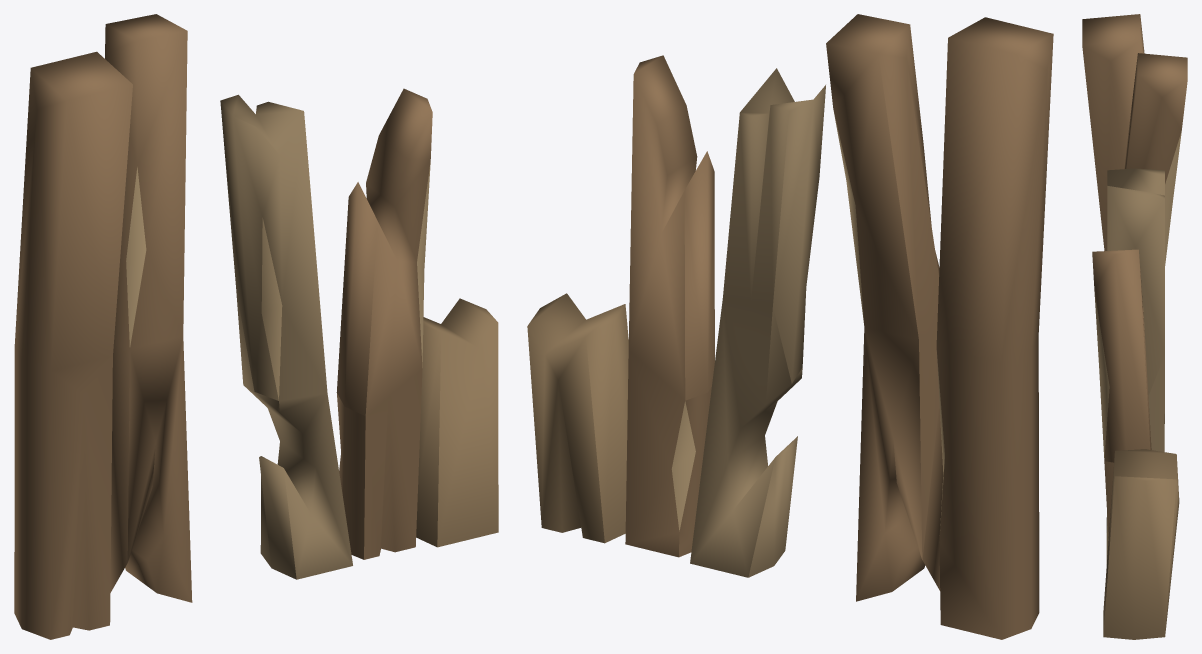
Rendered from rpgpp_av_wall_02_3x3_f.gltf.
3 renders of one model, left to right at view 1: azimuth 30°, elevation 25°; view 2: azimuth 150°, elevation 25°; view 3: azimuth 270°, elevation 25°, orthographic. The views are drawn at different scales.
Visible parts, largest first — view 1: rpgpp_av_wall_02_3x3_f; view 2: rpgpp_av_wall_02_3x3_f; view 3: rpgpp_av_wall_02_3x3_f.
Part boxes in pixels (x1,y1,x2,y2): rpgpp_av_wall_02_3x3_f: (14,14,498,639); rpgpp_av_wall_02_3x3_f: (527,14,1053,639); rpgpp_av_wall_02_3x3_f: (1082,14,1187,639).
Size of the model in its own units: 0.0264 by 0.03 by 0.00638.
Materials: 1 (1 with a texture image).
